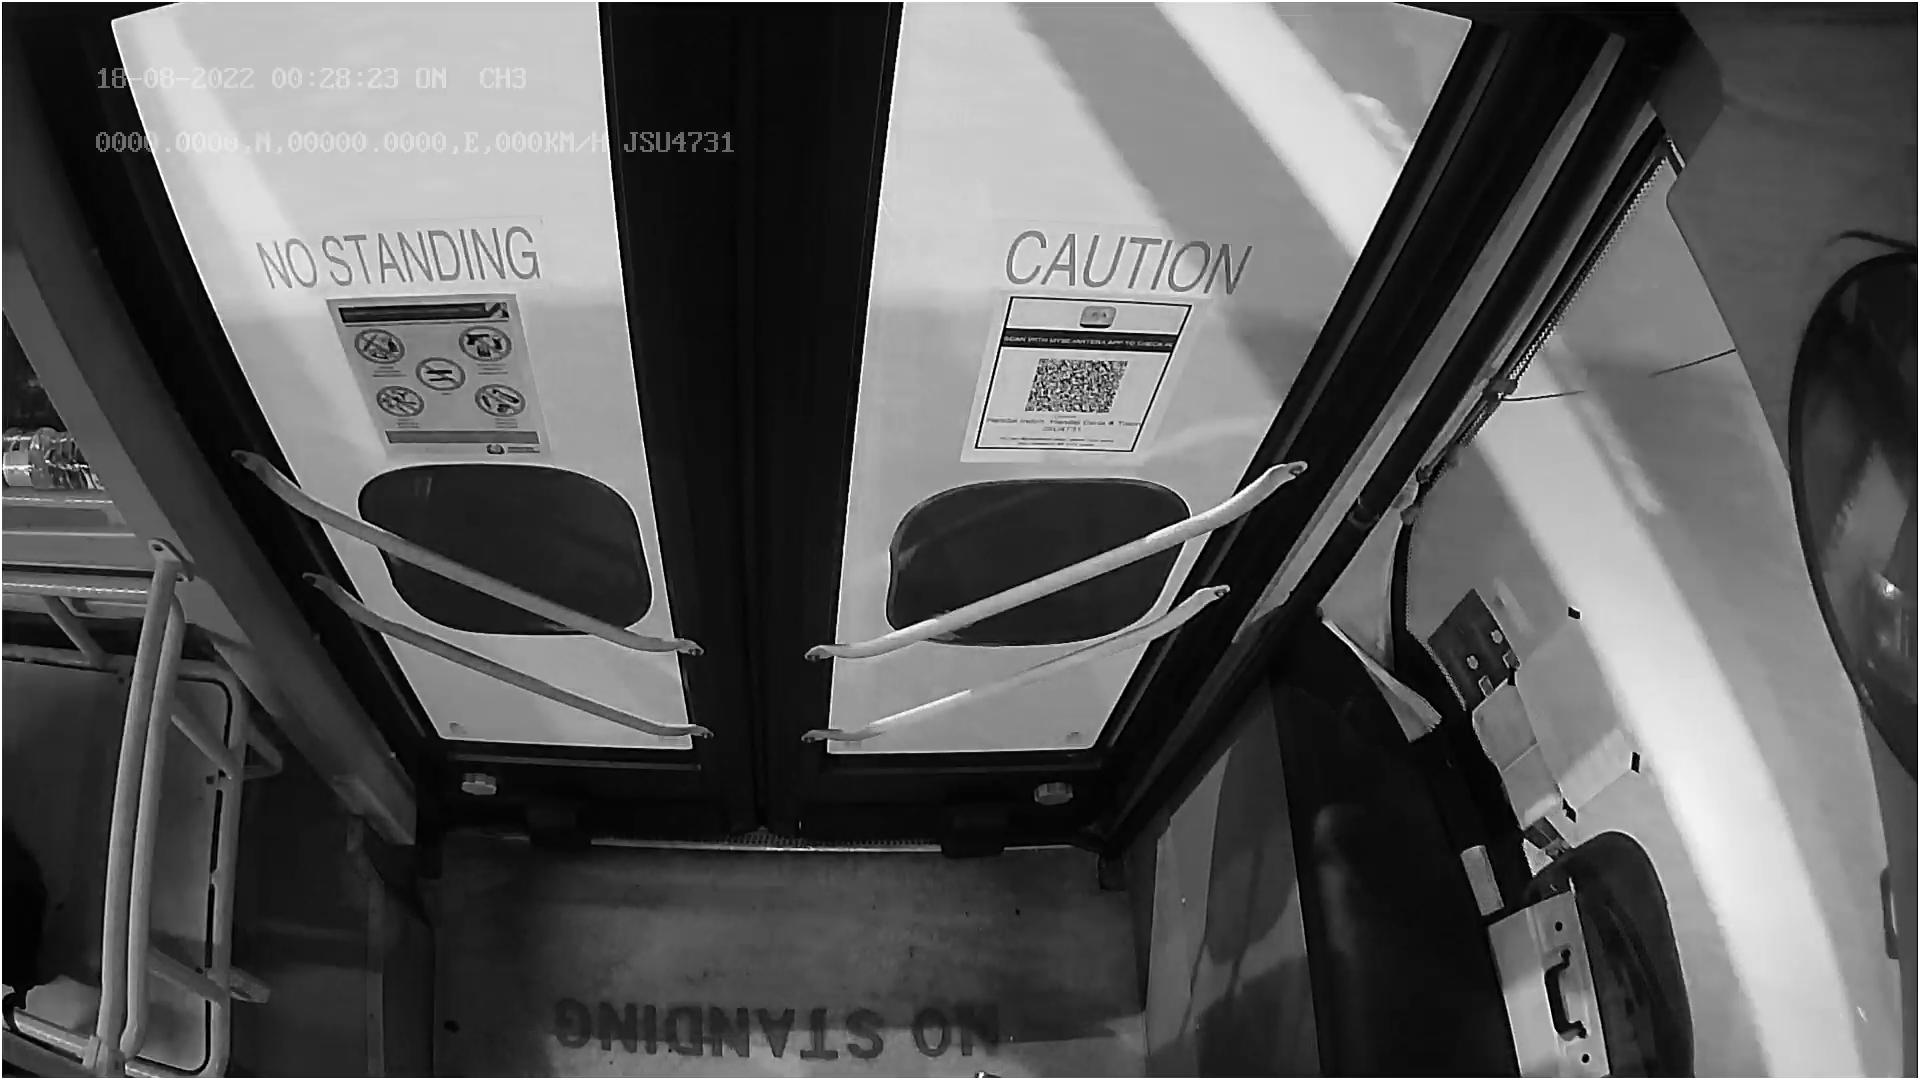close: (125, 0, 1455, 166)
